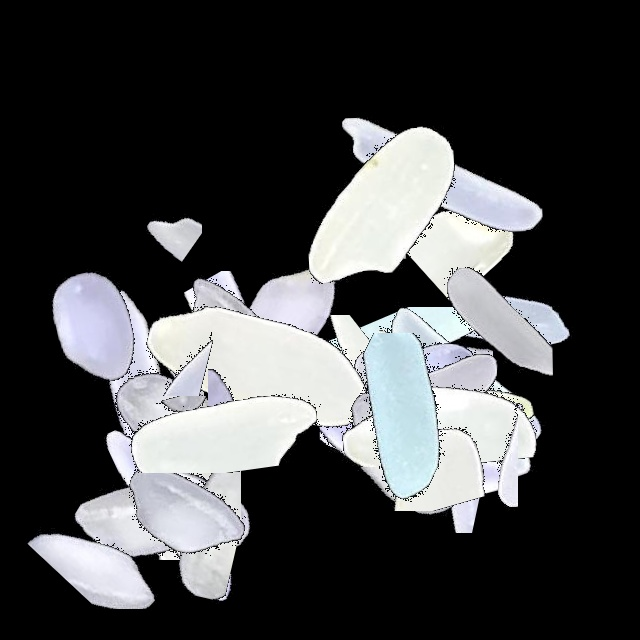Broken: (339, 236, 589, 410), (302, 333, 552, 507), (7, 233, 257, 404), (334, 235, 493, 485), (310, 309, 560, 467), (95, 320, 345, 473), (312, 263, 461, 513), (286, 385, 536, 533), (386, 296, 636, 443), (0, 466, 250, 609), (99, 389, 241, 639), (295, 307, 545, 447), (404, 102, 528, 352), (339, 391, 589, 515), (32, 437, 282, 560), (408, 311, 518, 561), (198, 315, 448, 421), (208, 294, 314, 544), (289, 366, 539, 471), (300, 406, 550, 511), (100, 269, 204, 519), (108, 271, 358, 375), (34, 295, 284, 396), (103, 92, 202, 342), (379, 270, 472, 520), (391, 287, 479, 537), (261, 343, 511, 429), (60, 396, 310, 473)
Full: (161, 188, 411, 438), (17, 270, 267, 520), (52, 298, 302, 548), (302, 312, 552, 562), (260, 281, 510, 531), (58, 390, 308, 640), (47, 390, 297, 640), (18, 390, 268, 640), (337, 255, 587, 505), (310, 285, 560, 535), (271, 285, 521, 535), (107, 214, 357, 464), (287, 280, 537, 530), (273, 296, 523, 546), (61, 390, 311, 640), (291, 325, 541, 575), (316, 50, 566, 300), (134, 238, 384, 488), (305, 255, 555, 505), (307, 263, 557, 513), (280, 329, 530, 579), (254, 78, 504, 328)
